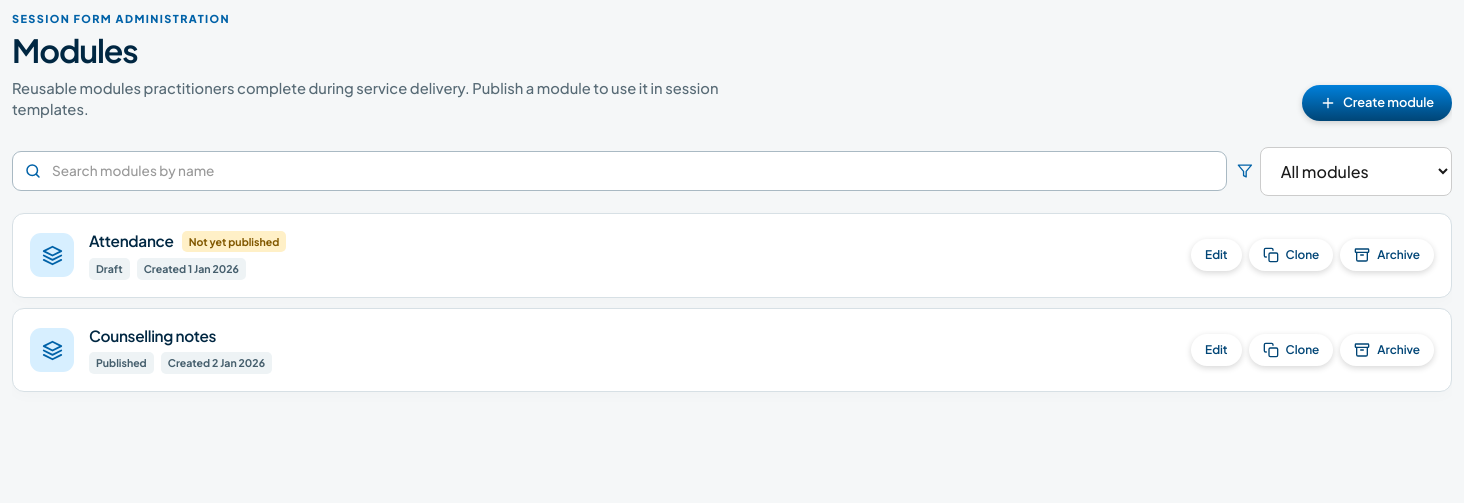
Test: ModulesList › clones a module into a new copy at the top of the list
The width and height of the screenshot is (1464, 503).
Expected: the heading "Counselling notes" is shown, x1=89 y1=326 x2=216 y2=346
Click the button "Clone" in the row of "2 Jan 2026": (1291, 350) x1=1249 y1=334 x2=1333 y2=366
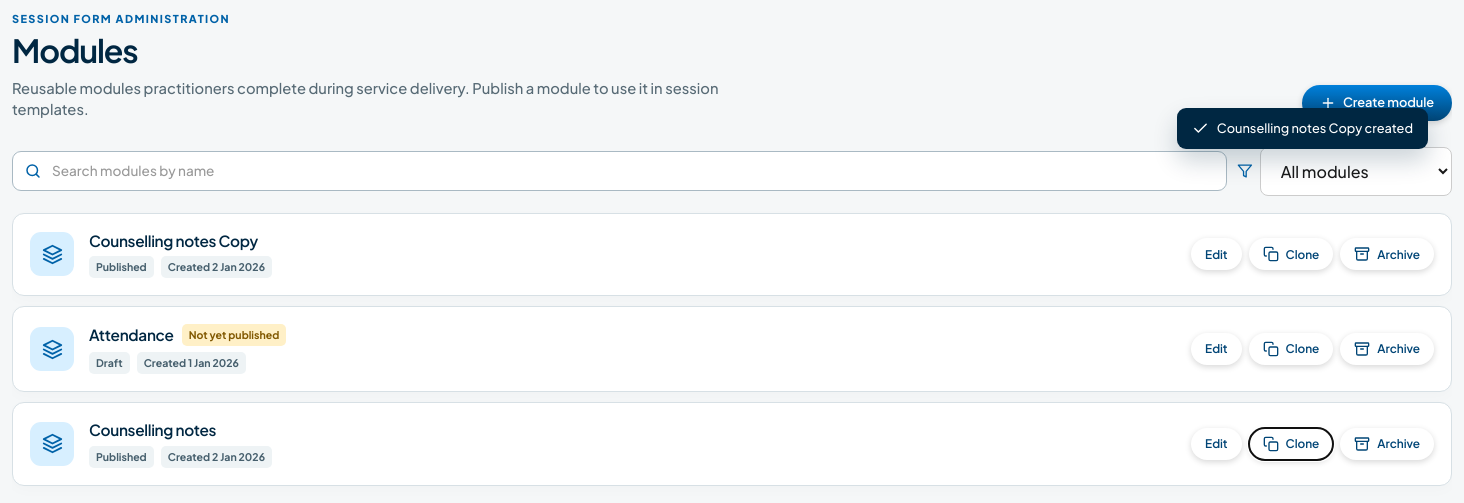
Now the heading "Counselling notes Copy" is shown, box x1=89 y1=230 x2=258 y2=250
